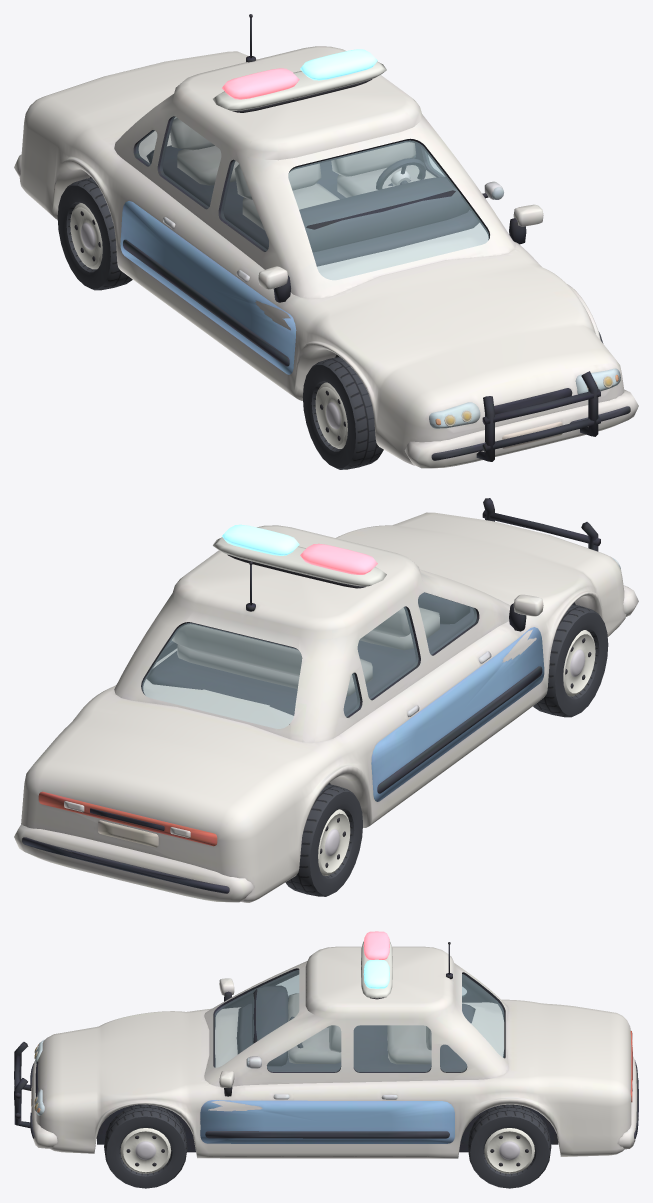
The model's file is 1990s-police-car.glb.
3 views of the same model, one above another, from view 1: azimuth 30°, elevation 25°; view 2: azimuth 150°, elevation 25°; view 3: azimuth 270°, elevation 25° (orthographic). The views are drawn at different scales.
Parts seen in each view (by area): view 1: 1990s-police-car_body, 1990s-police-car_windows, 1990s-police-car_wheel_fr, 1990s-police-car_lightbar, 1990s-police-car_wheel_rr; view 2: 1990s-police-car_body, 1990s-police-car_windows, 1990s-police-car_wheel_rr, 1990s-police-car_lightbar, 1990s-police-car_wheel_fr; view 3: 1990s-police-car_body, 1990s-police-car_windows, 1990s-police-car_wheel_fl, 1990s-police-car_wheel_rl, 1990s-police-car_lightbar.
Part boxes in pixels (<box>): 1990s-police-car_body: <box>14,14,638,468</box>; 1990s-police-car_windows: <box>136,116,488,279</box>; 1990s-police-car_wheel_fr: <box>302,356,383,469</box>; 1990s-police-car_lightbar: <box>213,49,386,112</box>; 1990s-police-car_wheel_rr: <box>57,178,132,290</box>; 1990s-police-car_body: <box>14,498,638,902</box>; 1990s-police-car_windows: <box>142,592,476,728</box>; 1990s-police-car_wheel_rr: <box>285,784,362,896</box>; 1990s-police-car_lightbar: <box>213,524,386,588</box>; 1990s-police-car_wheel_fr: <box>533,604,608,717</box>; 1990s-police-car_body: <box>14,942,638,1158</box>; 1990s-police-car_windows: <box>215,970,503,1071</box>; 1990s-police-car_wheel_fl: <box>104,1104,187,1188</box>; 1990s-police-car_wheel_rl: <box>467,1104,551,1188</box>; 1990s-police-car_lightbar: <box>361,931,392,999</box>.
Size of the model in its own units: 1.96 by 1.82 by 5.09.
6 materials, 6 textured.
